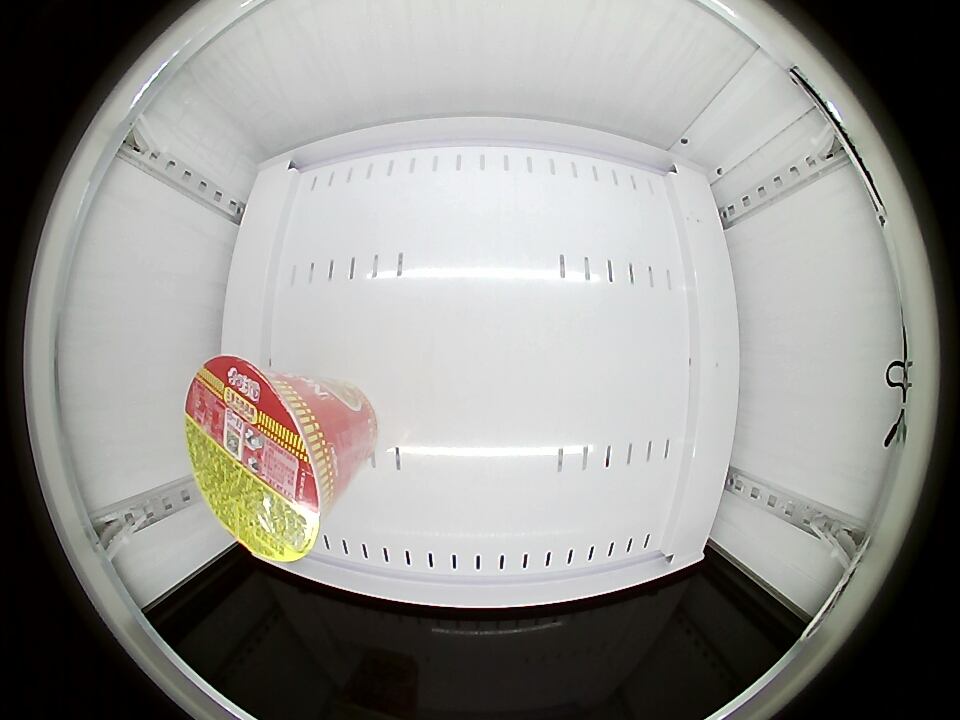heweidao3: (185, 354, 336, 565)
